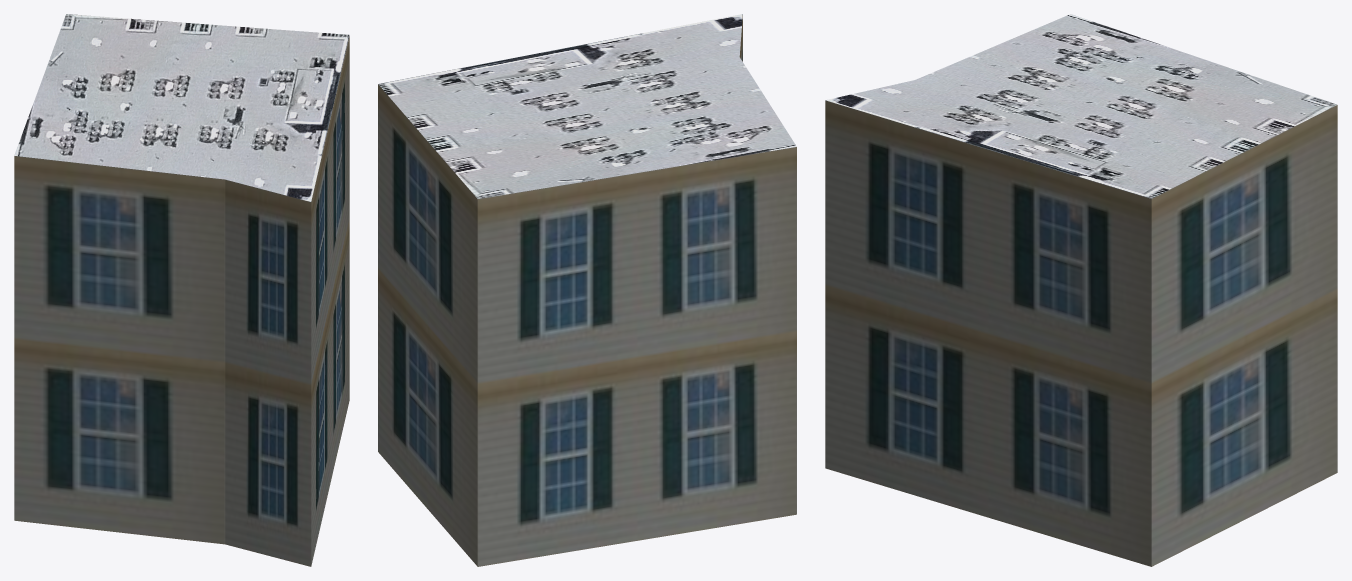
File: ResTex__1429.fbx
3 views of the same model, side by side, from view 1: azimuth 30°, elevation 25°; view 2: azimuth 150°, elevation 25°; view 3: azimuth 270°, elevation 25° (orthographic).
Parts seen in each view (by area): view 1: CityEngineMaterial_7_m, CityEngineMaterial_m; view 2: CityEngineMaterial_7_m, CityEngineMaterial_m; view 3: CityEngineMaterial_7_m, CityEngineMaterial_m.
Part boxes in pixels (left/top/right/bottom): CityEngineMaterial_7_m: left=14, top=36, right=349, bottom=566; CityEngineMaterial_m: left=14, top=14, right=349, bottom=201; CityEngineMaterial_7_m: left=378, top=15, right=796, bottom=566; CityEngineMaterial_m: left=378, top=14, right=796, bottom=198; CityEngineMaterial_7_m: left=825, top=100, right=1337, bottom=566; CityEngineMaterial_m: left=826, top=14, right=1337, bottom=198.
Size of the model in its own units: 6.46 by 6 by 7.57.
Materials: 2 (2 with a texture image).
